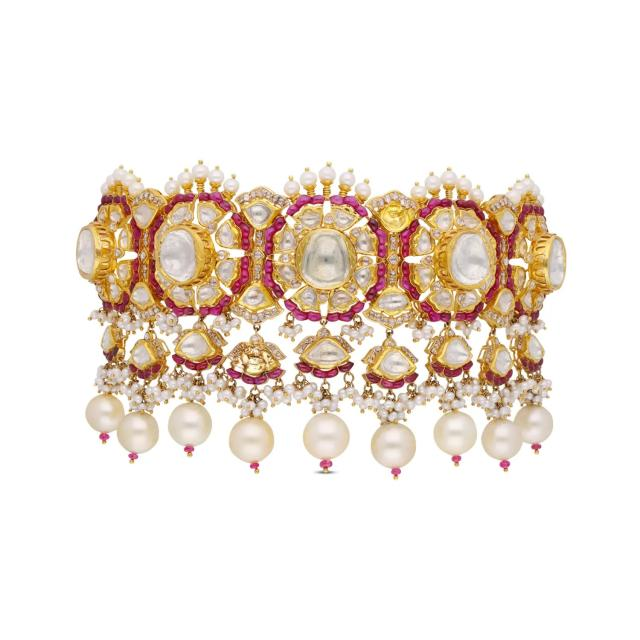missing gem: (233, 345, 275, 371), (378, 206, 414, 229)
